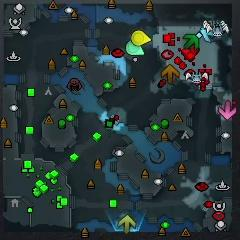p2: (126, 41, 145, 56)
p4: (132, 30, 152, 46)
x1: (219, 100, 236, 120)
x2: (119, 215, 136, 234)
x3: (200, 27, 216, 43)
x4: (183, 34, 200, 50)
x5: (162, 65, 179, 83)
